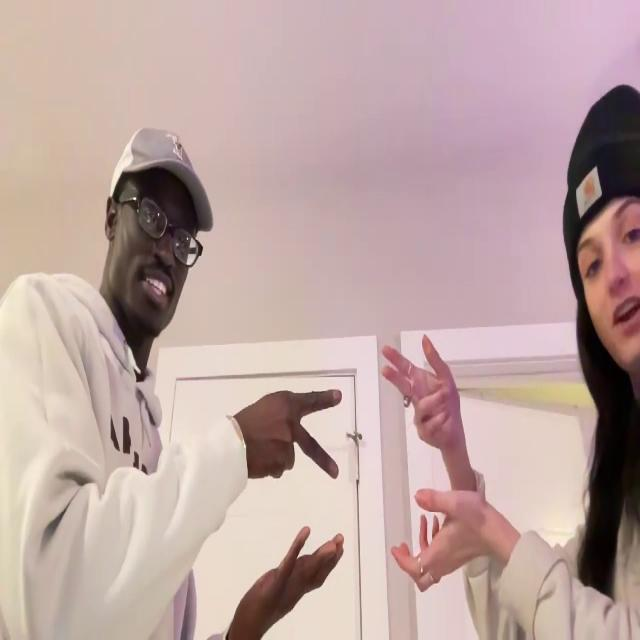Scissors: (381, 335, 465, 448), (244, 386, 342, 478)
